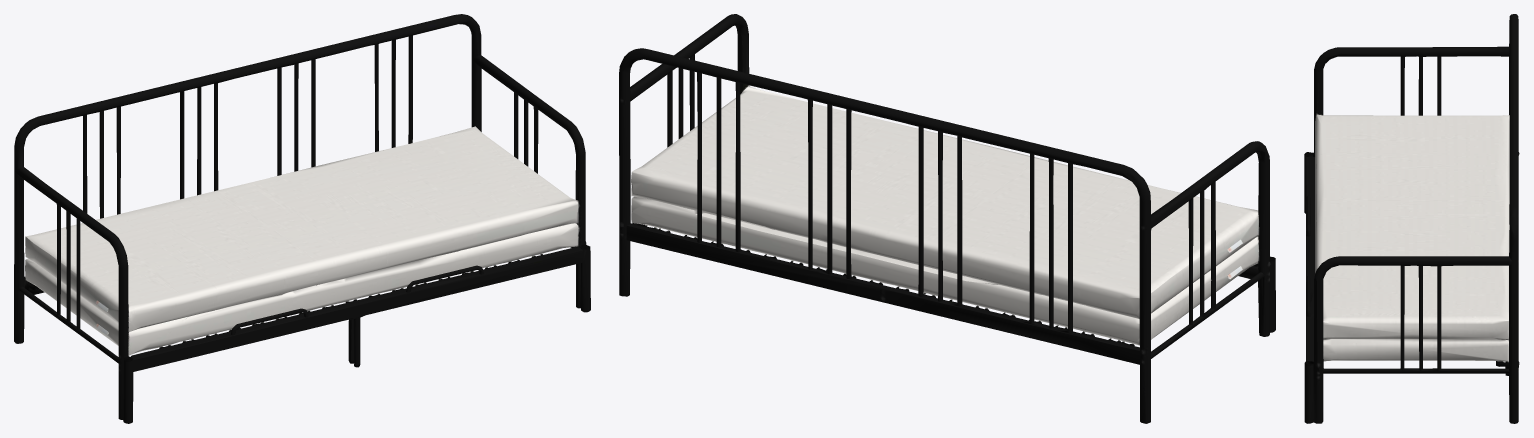
3 renders of one model, left to right at view 1: azimuth 30°, elevation 25°; view 2: azimuth 150°, elevation 25°; view 3: azimuth 270°, elevation 25°, orthographic. The views are drawn at different scales.
Parts seen in each view (by area): view 1: ProcessedMeshNode; view 2: ProcessedMeshNode; view 3: ProcessedMeshNode.
Part boxes in pixels (left/top/right/bottom): ProcessedMeshNode: left=14, top=14, right=590, bottom=423; ProcessedMeshNode: left=619, top=14, right=1275, bottom=423; ProcessedMeshNode: left=1304, top=14, right=1519, bottom=423.
Size of the model in its own units: 2.07 by 0.9326 by 0.8801.
Materials: 1 (1 with a texture image).
